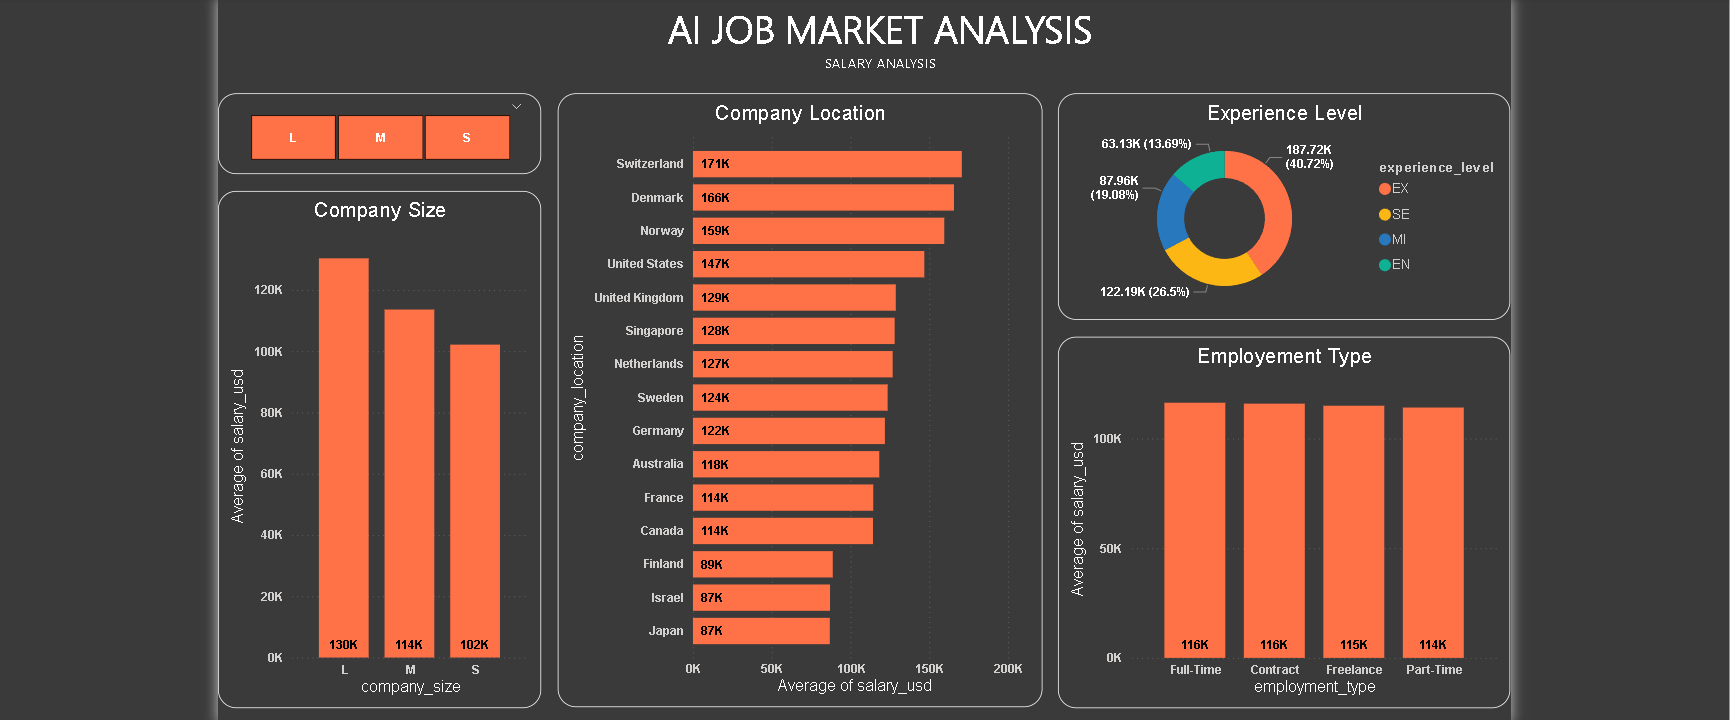

This screenshot's page, from the dashboard's own definition file:
{"tool":"powerbi","page":{"name":"Salary Analysis","canvas":[1280,720],"ordinal":1},"visuals":[{"type":"textbox","box":[0,0,1312,80],"z":0},{"type":"clusteredBarChart","title":"Company Location","fields":{"Y":["Avg(ai_jobs_cleaned.salary_usd)"],"Category":["ai_jobs_cleaned.company_location"]},"box":[336,96,480,608],"z":1},{"type":"clusteredColumnChart","title":"Company Size","fields":{"Category":["ai_jobs_cleaned.company_size"],"Y":["Avg(ai_jobs_cleaned.salary_usd)"]},"box":[0,192,320,512],"z":2},{"type":"clusteredColumnChart","title":"Employement Type","fields":{"Category":["ai_jobs_cleaned.employment_type"],"Y":["Avg(ai_jobs_cleaned.salary_usd)"]},"box":[832,336,448,368],"z":3},{"type":"donutChart","title":"Experience Level","fields":{"Y":["Avg(ai_jobs_cleaned.salary_usd)"],"Category":["ai_jobs_cleaned.experience_level"]},"box":[832,96,448,224],"z":4},{"type":"slicer","fields":{"Values":["ai_jobs_cleaned.company_size"]},"box":[0,96,320,80],"z":5}]}

Visuals, with their boxes on the page's 1280x720 design canvas (x1, y1, x2, y2). These are canvas units, not pixel positions in the 1730x720 screenshot, which may show the page scaled, cropped or inside an application window:
textbox: (0,0,1312,80)
"Company Location" clusteredBarChart: (336,96,816,704)
"Company Size" clusteredColumnChart: (0,192,320,704)
"Employement Type" clusteredColumnChart: (832,336,1280,704)
"Experience Level" donutChart: (832,96,1280,320)
slicer - ai_jobs_cleaned.company_size: (0,96,320,176)
